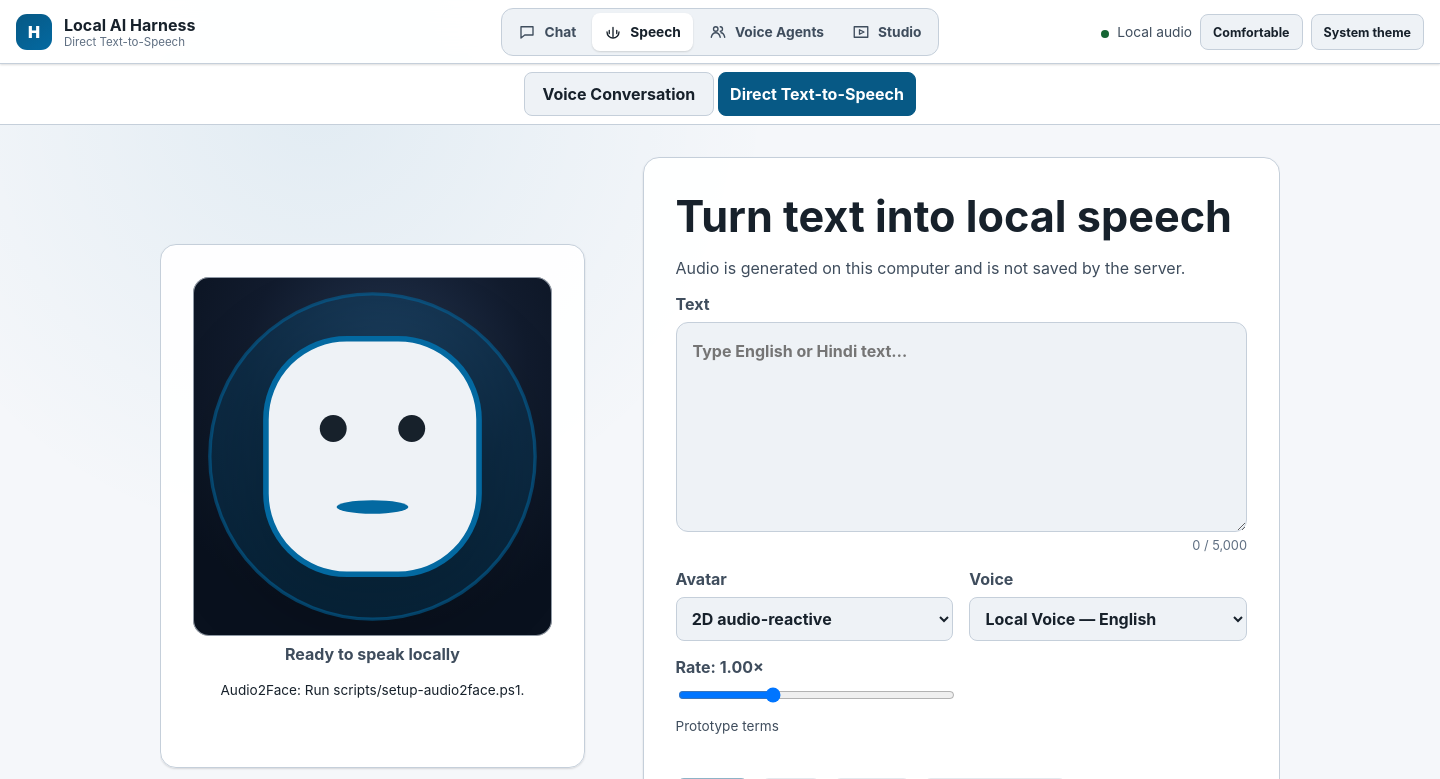
independent speech page › streams, exposes redaction, enables replay/download, and reacts to audio
The width and height of the screenshot is (1440, 779).
Expected: the text "Ready to speak locally" is shown, top-left (285, 644), bottom-right (460, 664)
Type "hello" into the text box named "Speech text". click: (961, 427)
box: top-left (676, 322), bottom-right (1247, 532)
(page scrolled)
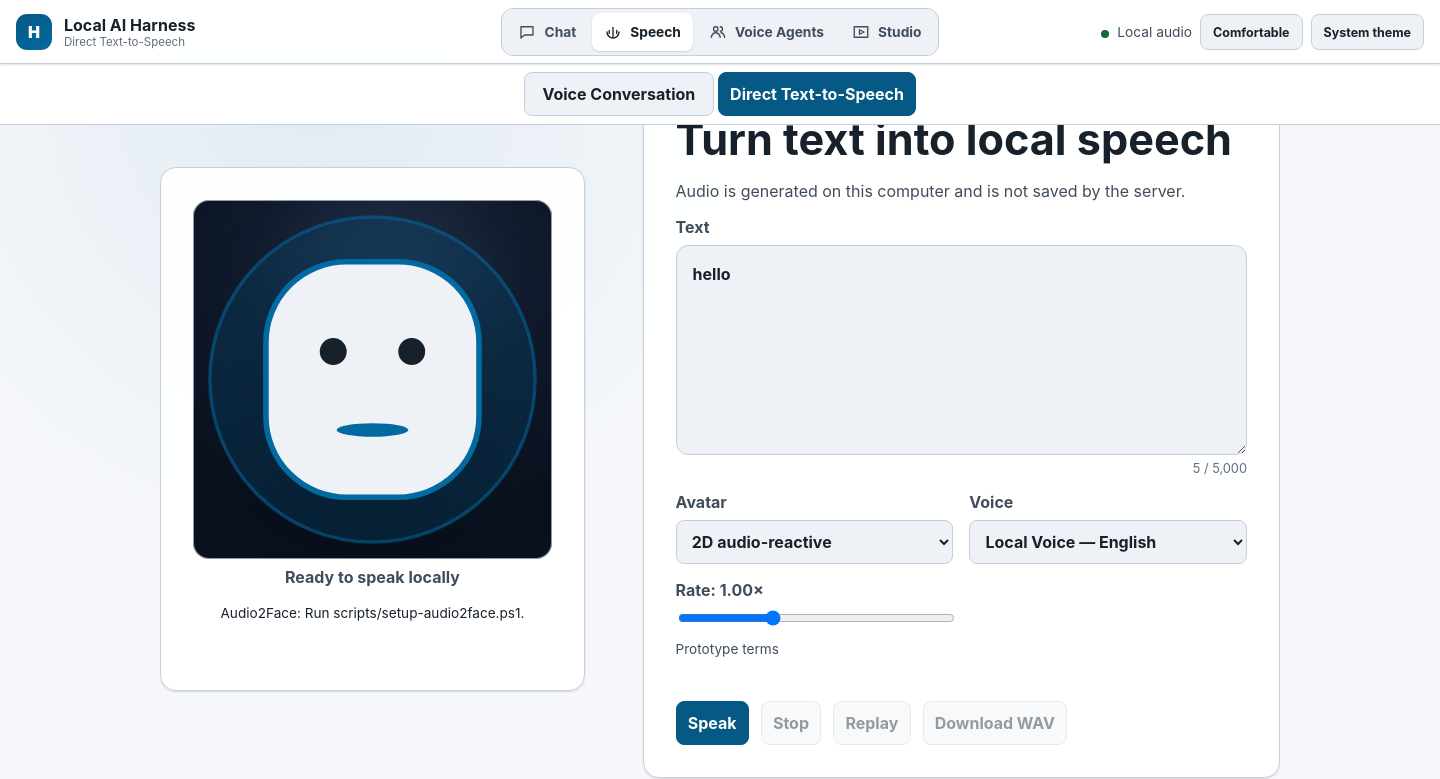
Click the button "Speak". click: click(712, 723)
box: top-left (676, 701), bottom-right (749, 745)
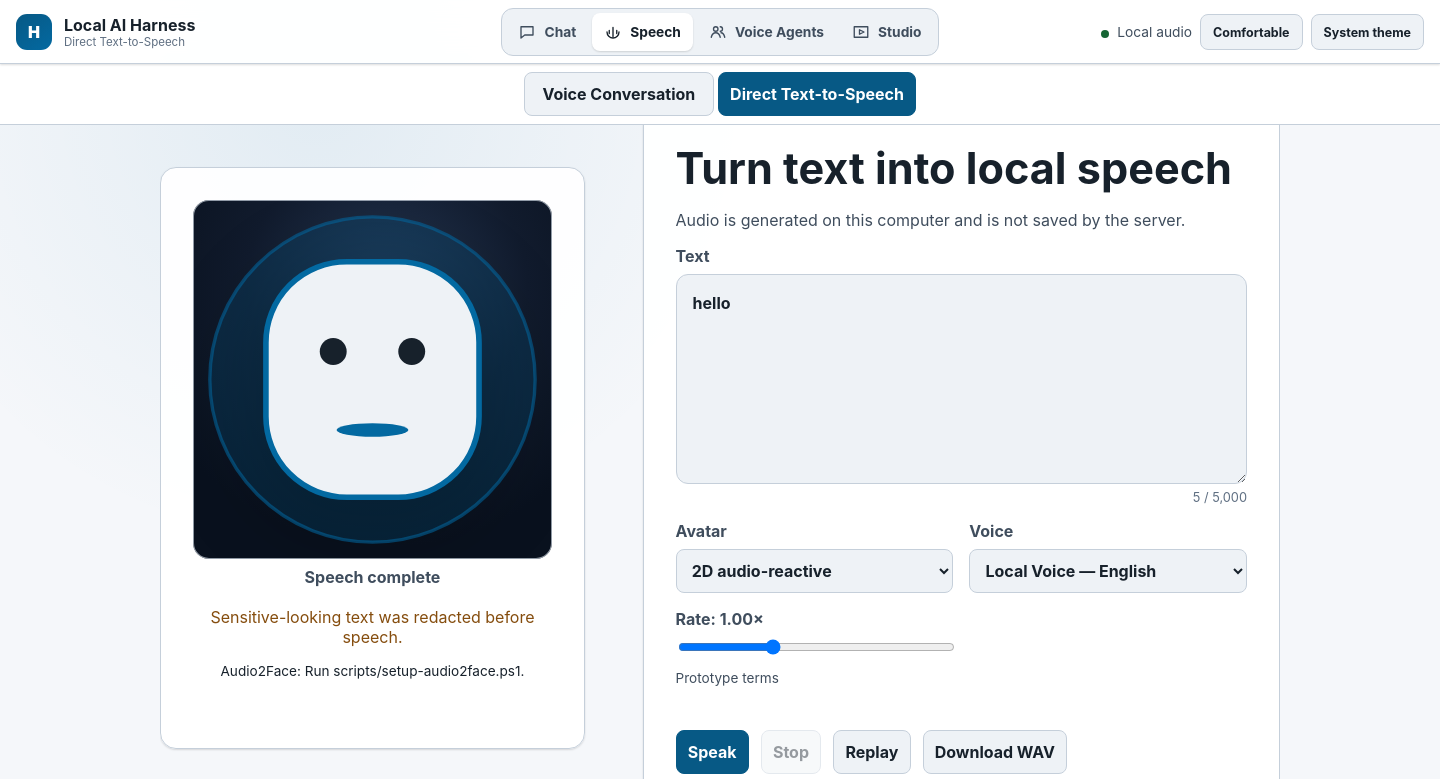
Now the text "Speech complete" is shown, box top-left (305, 567), bottom-right (440, 587)
Now the text "Sensitive-looking text was redacted before speech." is shown, box top-left (193, 607), bottom-right (552, 647)
Now the button "Replay" is enabled
Click the button "Replay". click: click(872, 752)
box: top-left (833, 730), bottom-right (910, 774)
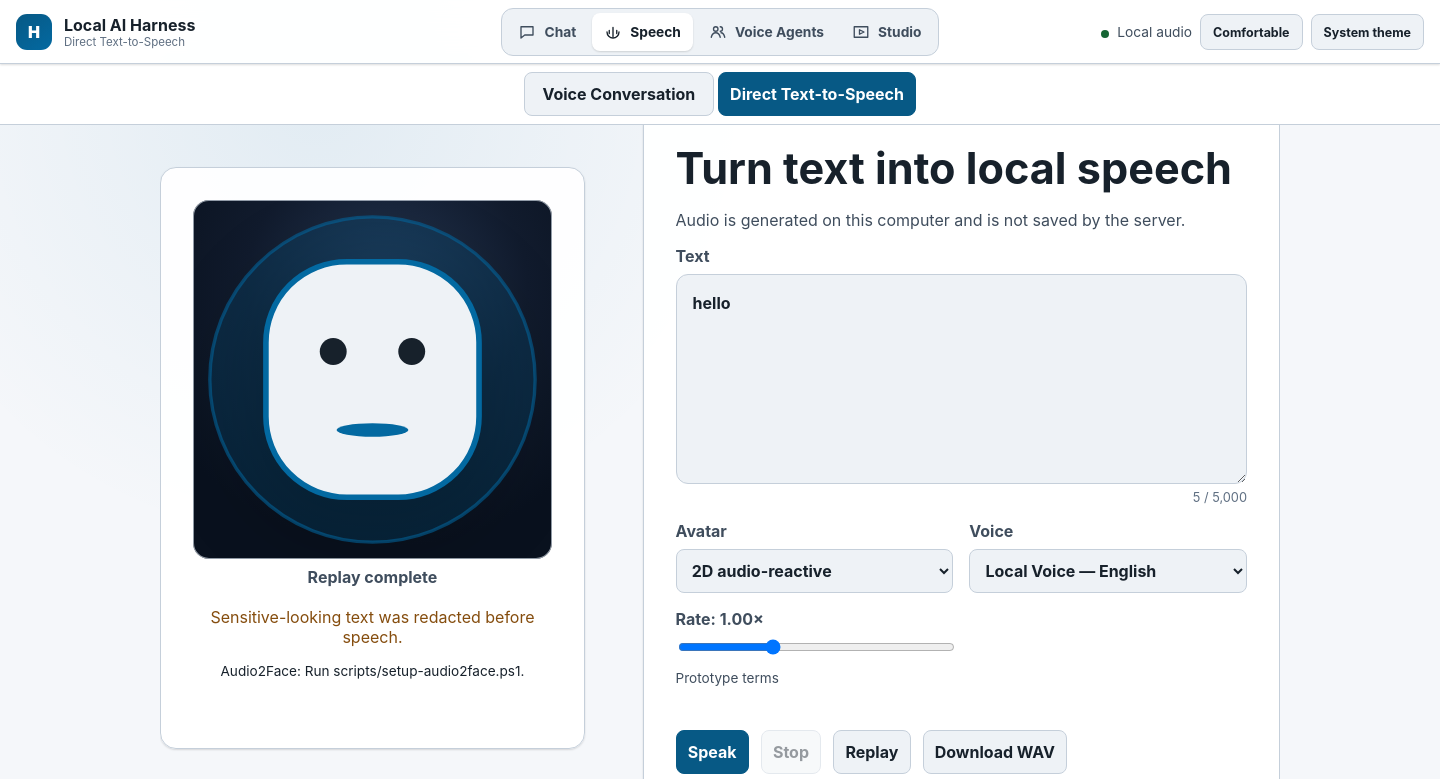
Now the text "Replay complete" is shown, box top-left (308, 567), bottom-right (437, 587)
